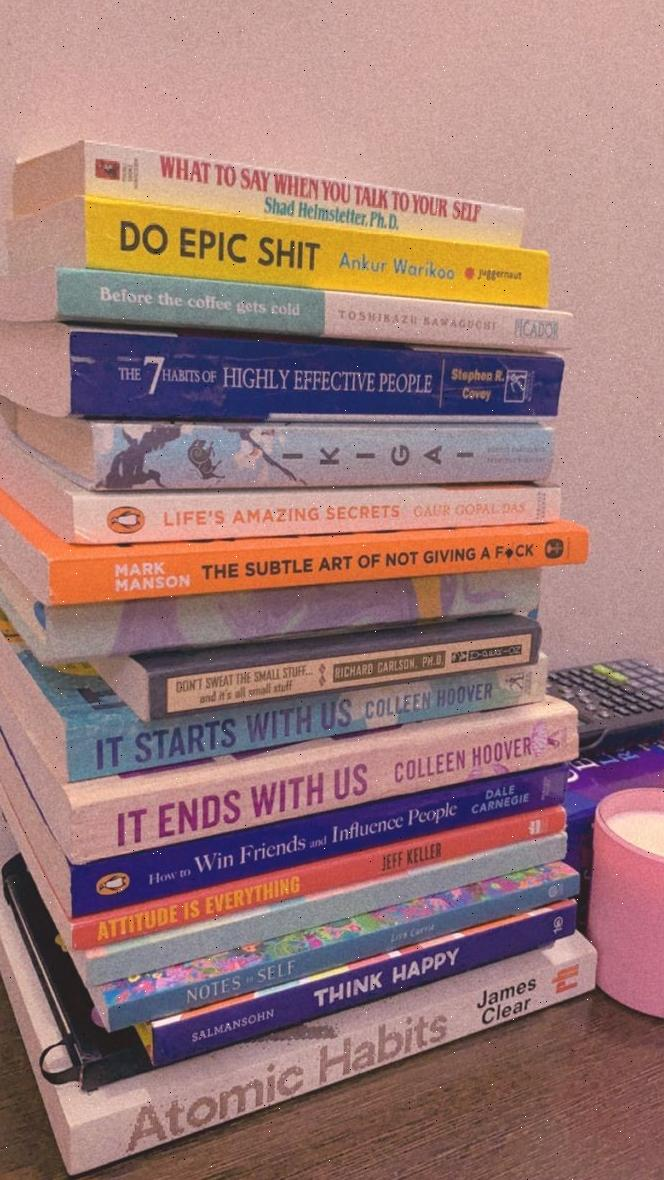book: (84, 203, 548, 303), (48, 335, 570, 423), (50, 531, 586, 601), (148, 627, 536, 715)
